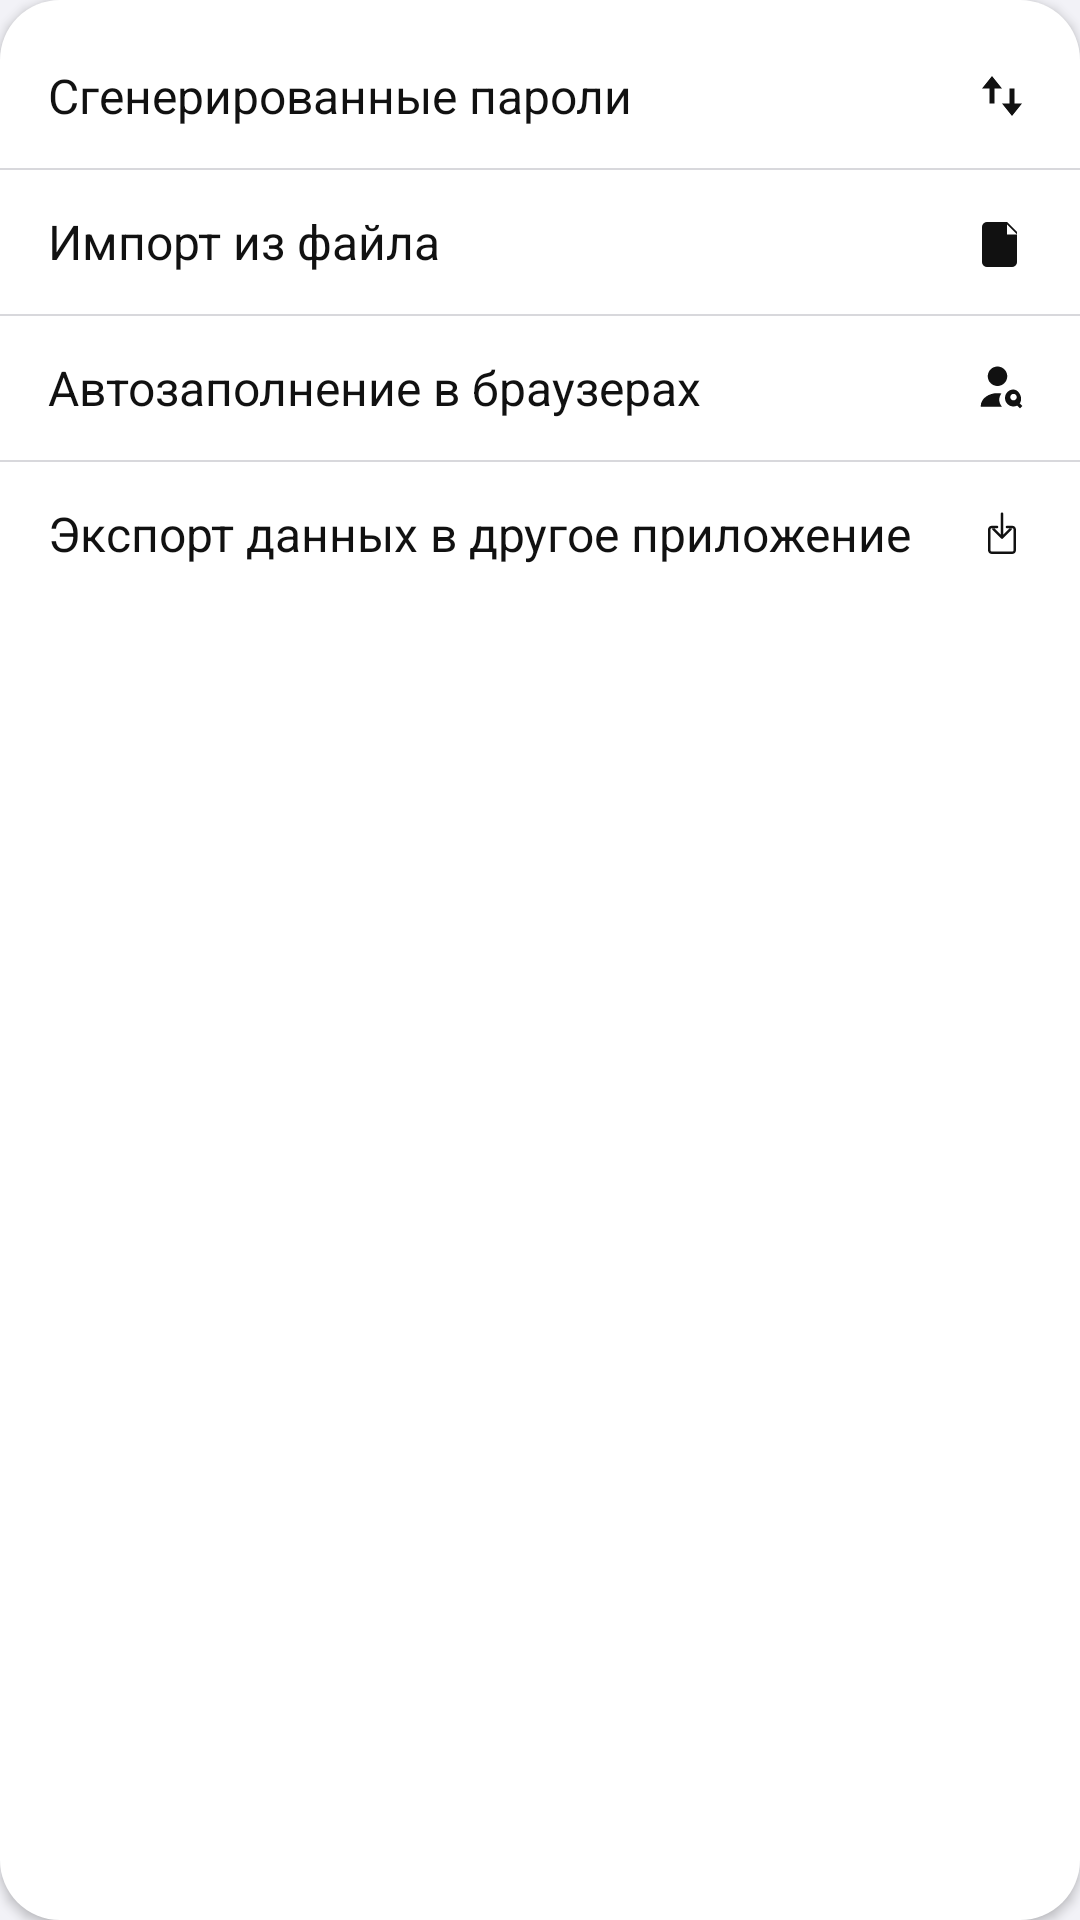

Icons on this 1080x1920 Android screen, each with its box as bbox(x1, y1, x2, y2):
sort: bbox(982, 76, 1022, 116)
